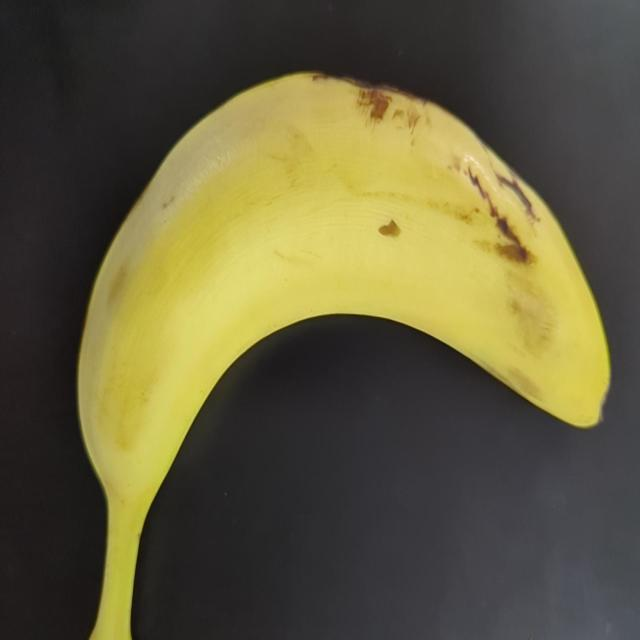Pisang: (64, 19, 634, 640)
